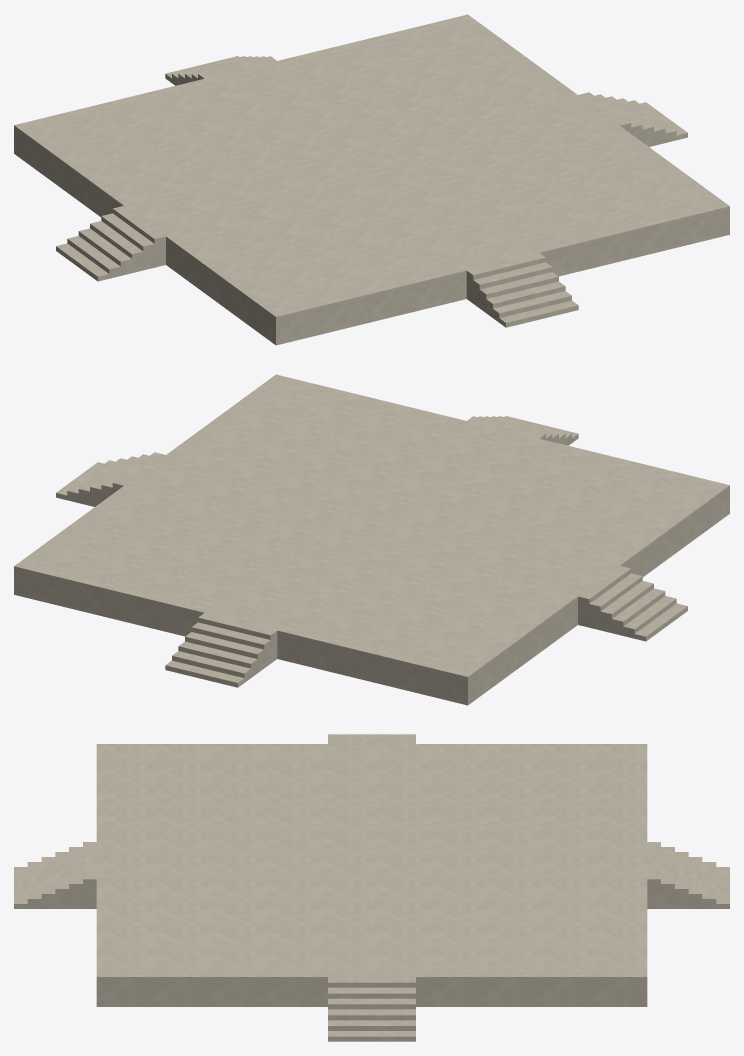
Rendered from northern-altar-C-LOD2.glb.
3 renders of one model, top to bottom at view 1: azimuth 30°, elevation 25°; view 2: azimuth 150°, elevation 25°; view 3: azimuth 270°, elevation 25°, orthographic. The views are drawn at different scales.
Visible parts, largest first — view 1: north_altar_platform_four_stepped_approaches_C; view 2: north_altar_platform_four_stepped_approaches_C; view 3: north_altar_platform_four_stepped_approaches_C.
Part boxes in pixels (x1=…): north_altar_platform_four_stepped_approaches_C: x1=14, y1=14, x2=729, y2=345; north_altar_platform_four_stepped_approaches_C: x1=14, y1=374, x2=729, y2=705; north_altar_platform_four_stepped_approaches_C: x1=14, y1=734, x2=729, y2=1041.
Size of the model in its own units: 26 by 1.2 by 26.
1 material, 1 textured.
